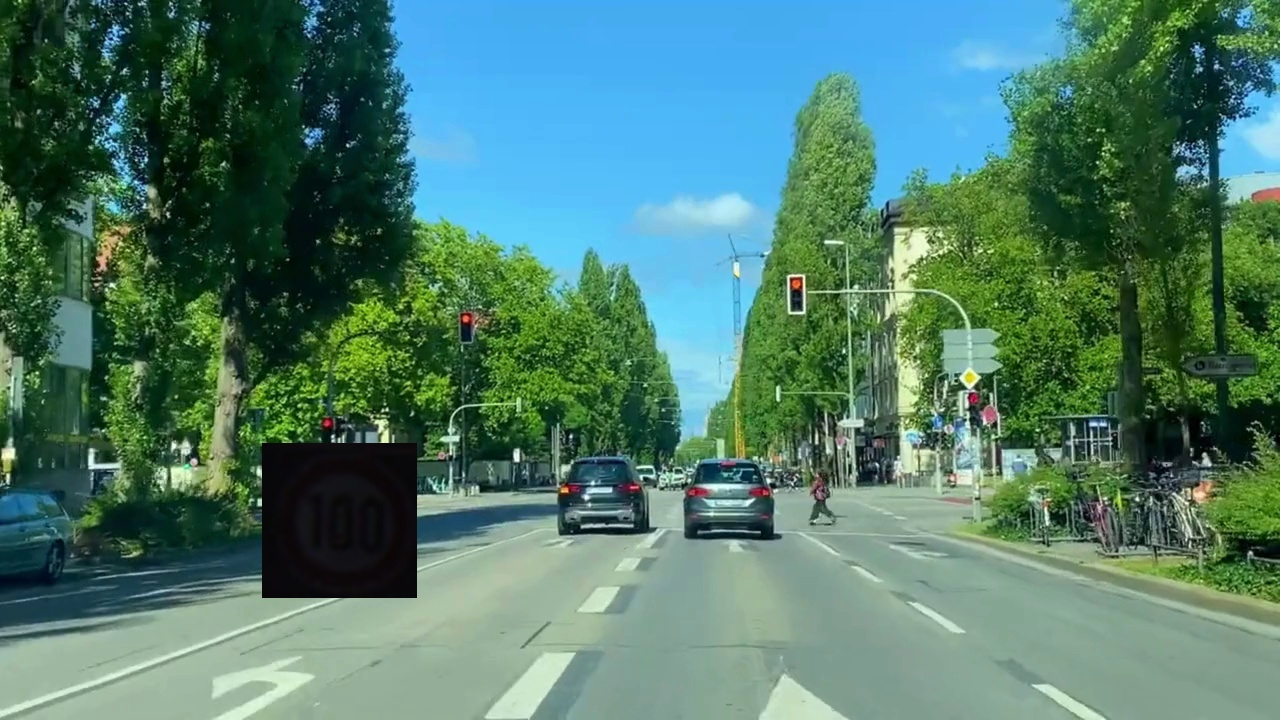Speed 100: (262, 443, 417, 598)
